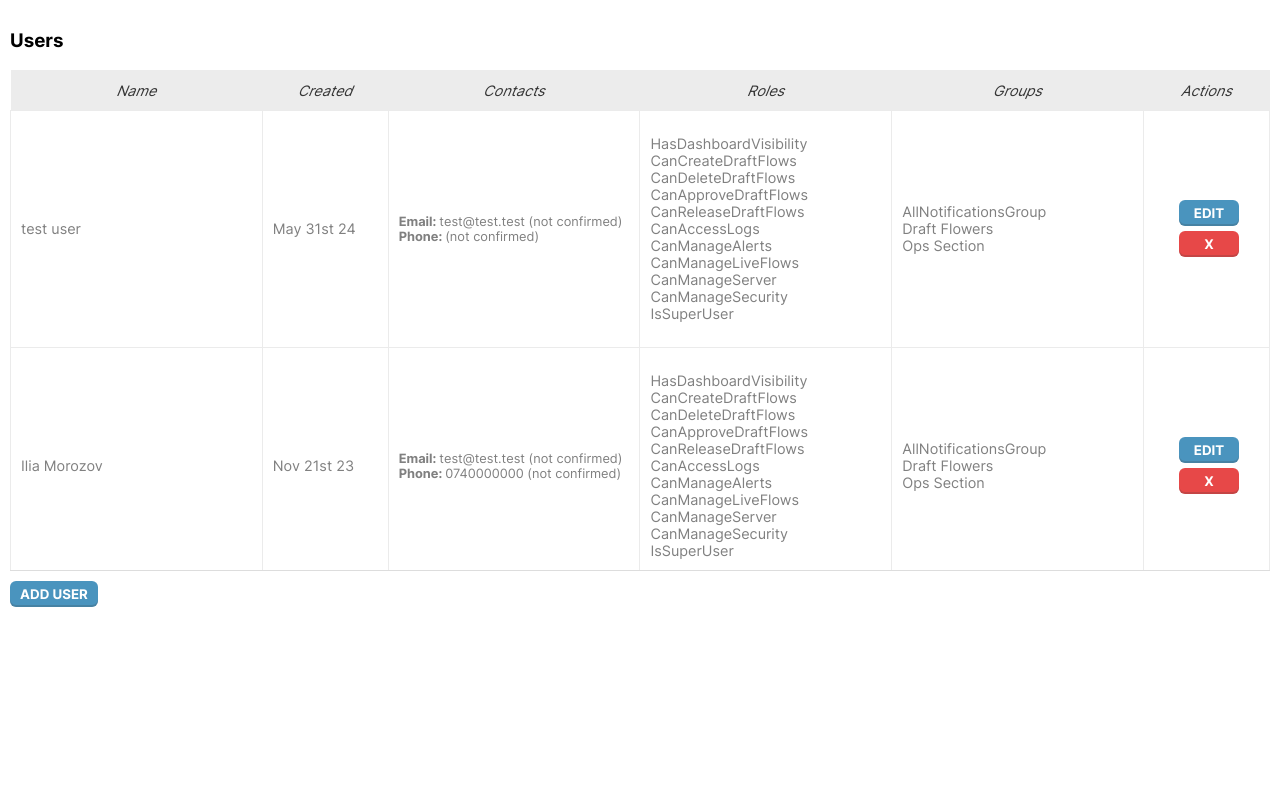
it: UserTable component › renders EDIT USER modal window on EDIT btn click
The width and height of the screenshot is (1280, 800).
Click the button with test id "test_Ilia Morozov_btn" at {"x": 1209, "y": 450}, box [1179,437,1239,463]
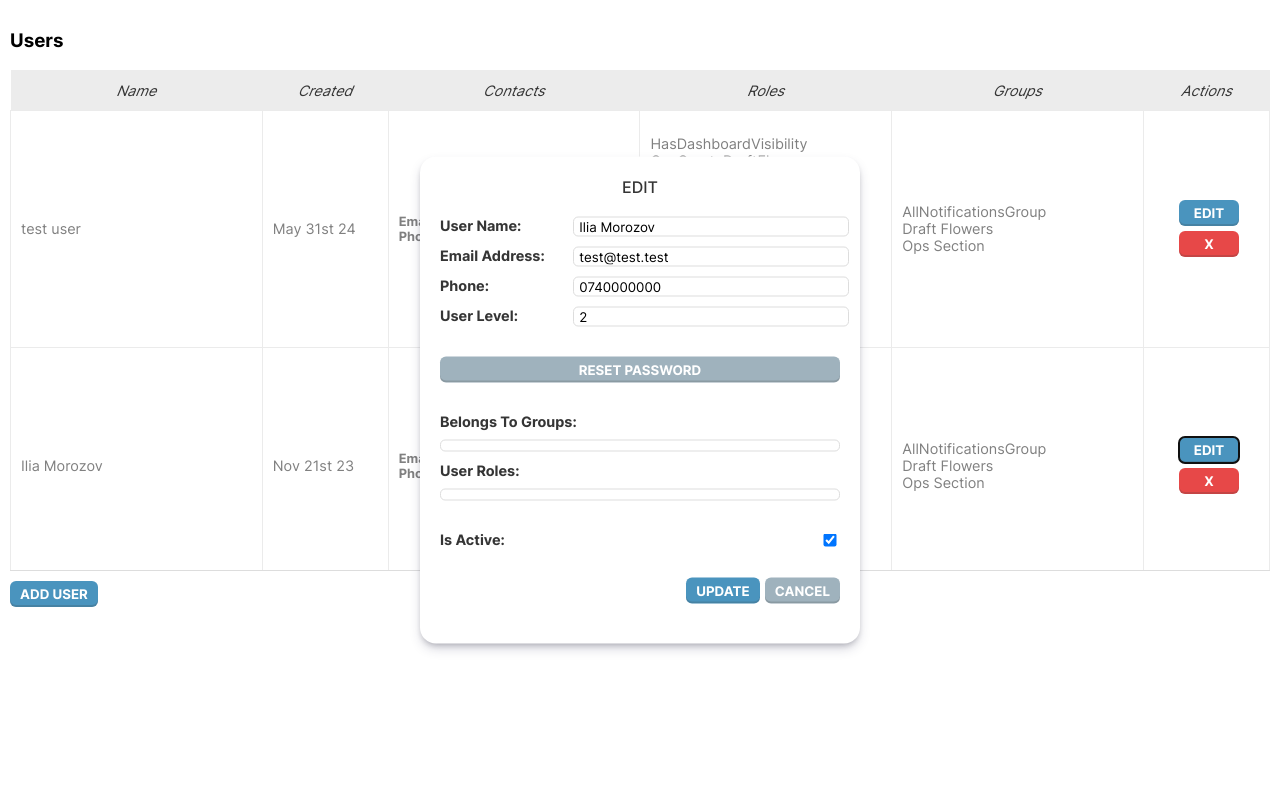
Expected: the button "RESET PASSWORD" is shown, [440,356,840,382]
